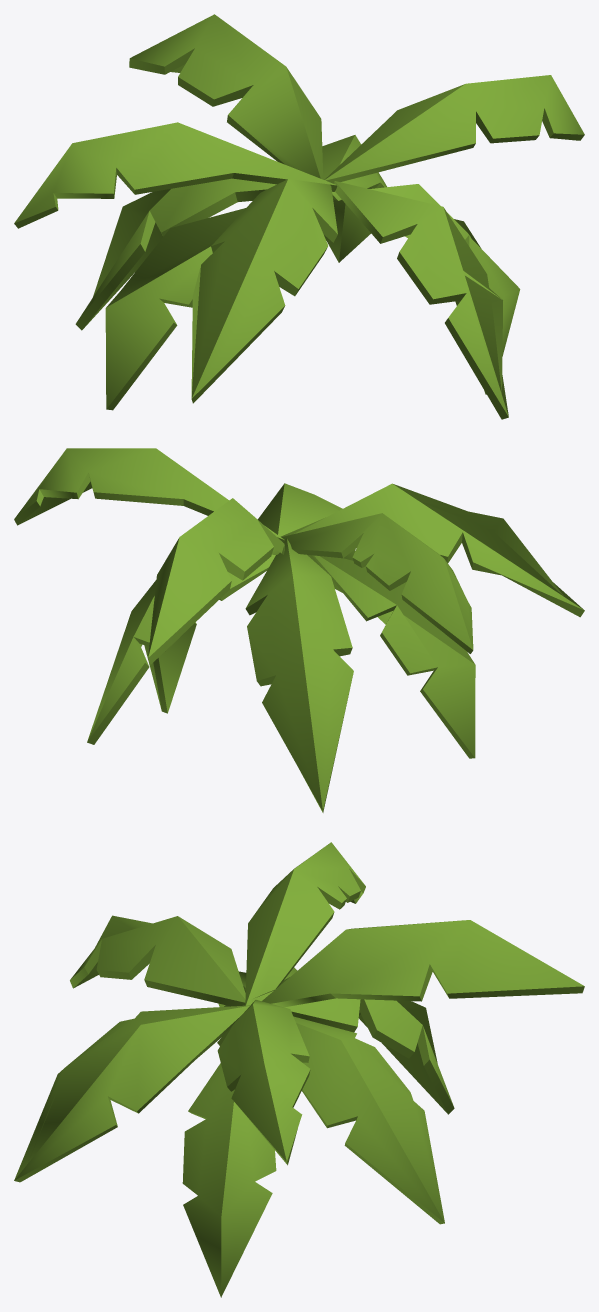
File: palm1_far.glb
3 views of the same model, one above another, from view 1: azimuth 30°, elevation 25°; view 2: azimuth 150°, elevation 25°; view 3: azimuth 270°, elevation 25° (orthographic). The views are drawn at different scales.
Parts seen in each view (by area): view 1: Environment_PalmTree_3; view 2: Environment_PalmTree_3; view 3: Environment_PalmTree_3.
Part boxes in pixels (x1,y1,x2,y2): Environment_PalmTree_3: [14, 14, 584, 419]; Environment_PalmTree_3: [14, 448, 584, 812]; Environment_PalmTree_3: [14, 842, 584, 1297].
Size of the model in its own units: 2.86 by 1.64 by 2.75.
1 material, 1 textured.
